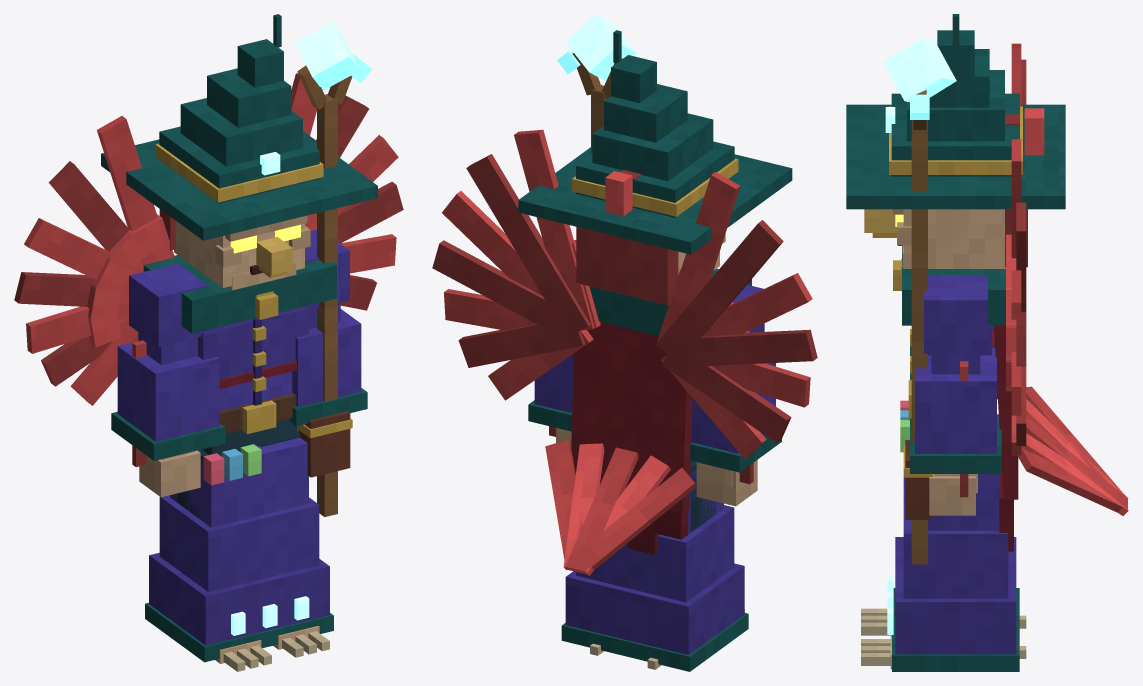
File: harpy_mage_v2.glb
3 views of the same model, side by side, from view 1: azimuth 30°, elevation 25°; view 2: azimuth 150°, elevation 25°; view 3: azimuth 270°, elevation 25° (orthographic). The views are drawn at different scales.
Parts seen in each view (by area): view 1: Torso, Head, Root, ArmR, HandL, ArmL, LegR; view 2: Torso, Head, Root, ArmR, HandL, ArmL, LegR; view 3: Head, Root, Torso, ArmL, HandL.
Part boxes in pixels (x1=…): Torso: x1=14, y1=73, x2=403, y2=485; Head: x1=101, y1=14, x2=377, y2=290; Root: x1=145, y1=437, x2=333, y2=671; ArmR: x1=111, y1=263, x2=225, y2=497; HandL: x1=294, y1=21, x2=371, y2=516; ArmL: x1=290, y1=229, x2=367, y2=431; LegR: x1=177, y1=449, x2=261, y2=663; Torso: x1=432, y1=129, x2=817, y2=575; Head: x1=518, y1=30, x2=792, y2=305; Root: x1=561, y1=469, x2=748, y2=671; ArmR: x1=690, y1=284, x2=781, y2=506; HandL: x1=557, y1=14, x2=636, y2=154; ArmL: x1=528, y1=354, x2=573, y2=447; LegR: x1=690, y1=461, x2=716, y2=532; Head: x1=846, y1=14, x2=1065, y2=268; Root: x1=861, y1=414, x2=1026, y2=671; Torso: x1=893, y1=43, x2=1128, y2=551; ArmL: x1=910, y1=275, x2=1001, y2=515; HandL: x1=883, y1=38, x2=956, y2=564.
Size of the model in its own units: 1.46 by 2.18 by 0.8628.
41 materials, 41 textured.
